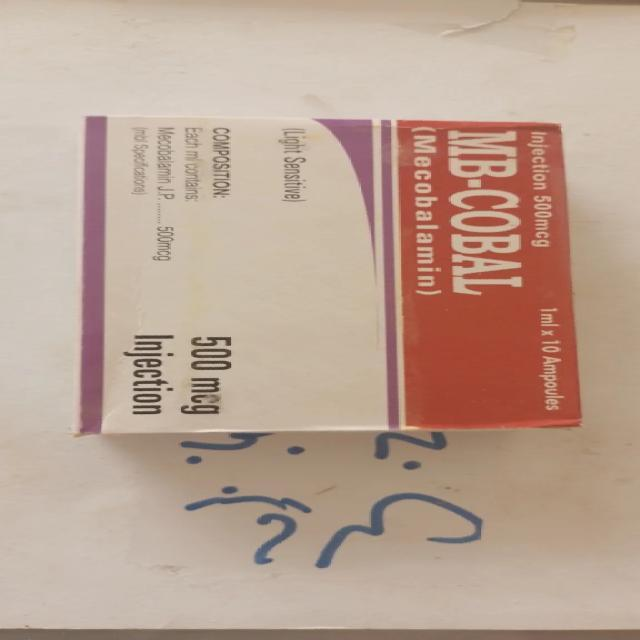drug-name: (446, 125, 526, 298)
